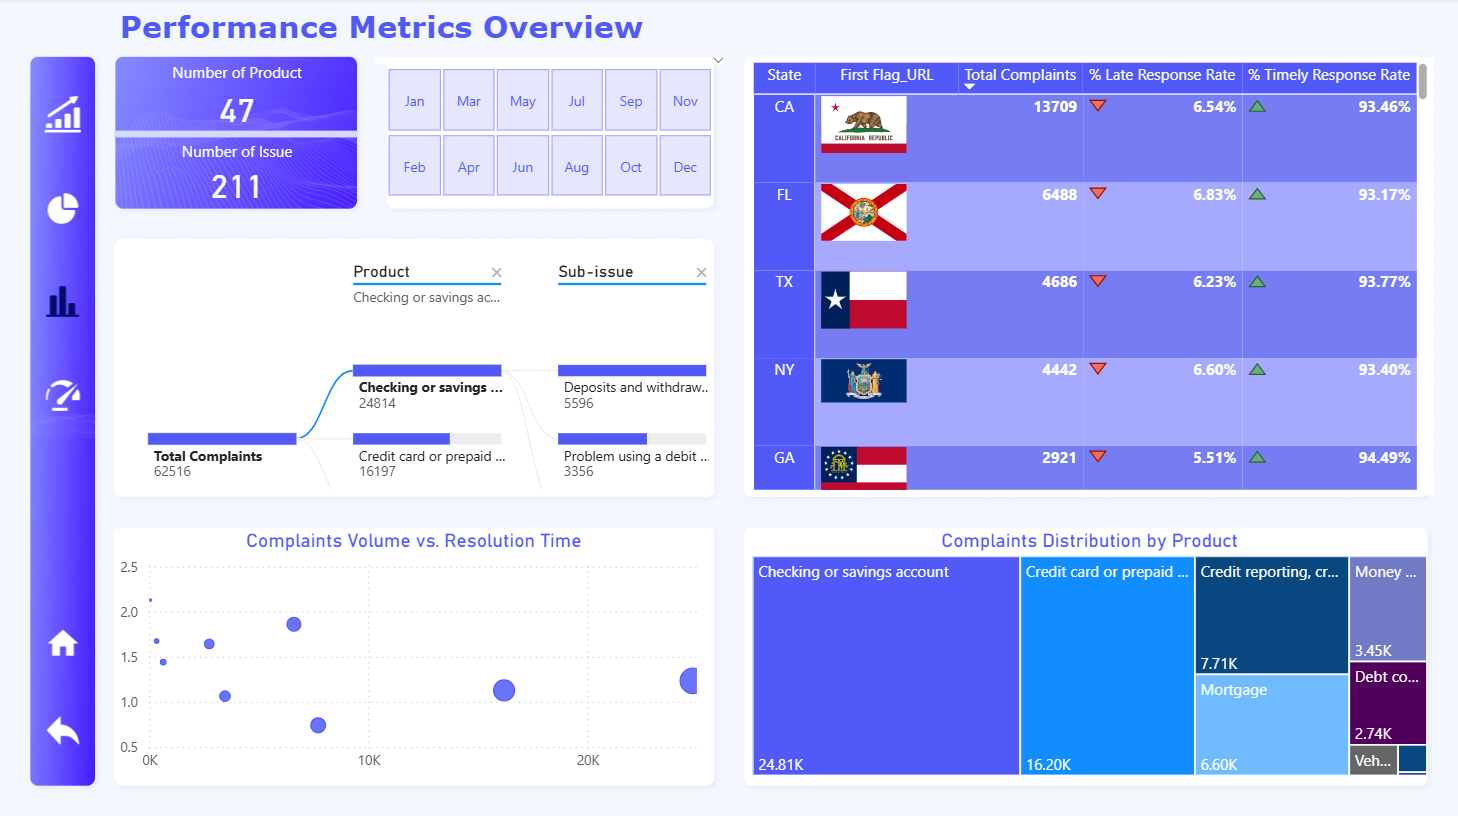

The dashboard page shown, as its layout file describes it:
{"tool":"powerbi","page":{"name":"Performance Metrics","canvas":[1280,720],"ordinal":3},"visuals":[{"type":"decompositionTreeVisual","title":"Total vs. PM Complaints","fields":{"Analyze":["Measures (2).Total Complaints"],"ExplainBy":["Dim Product.Product","Dim Issue.Sub-issue"]},"box":[99.8,215.5,526.8,221.4],"z":0},{"type":"scatterChart","title":"Complaints Volume vs. Resolution Time","fields":{"X":["Measures (2).Total Complaints"],"Y":["Avg(Fact Data.Processing Days)"],"Category":["Dim Product.Product"],"Size":["Measures (2).Complaints Variance"]},"box":[99.8,466.5,526.8,221.4],"z":1000},{"type":"treemap","title":"Complaints Distribution by Product","fields":{"Values":["CountNonNull(Fact Data.Complaint ID)"],"Group":["Dim Product.Product"]},"box":[656.3,466.5,601.9,221.4],"z":2000},{"type":"slicer","fields":{"Values":["DimDate.Month"]},"box":[315.3,47.4,333.1,133.4],"z":3000},{"type":"pivotTable","title":"Response Performance by State","fields":{"Rows":["Dim State.State"],"Values":["Min(Dim State.Flag_URL)","Measures (2).Total Complaints","Measures (2).% Late Response Rate","Measures (2).% Timely Response Rate"]},"box":[656.8,51.8,602.3,385.5],"z":4000},{"type":"textbox","box":[100.1,3.5,674.3,47.4],"z":5000},{"type":"actionButton","box":[35.2,64,40.4,76.4],"z":6000},{"type":"actionButton","box":[35.2,146.3,40.4,76.4],"z":7000},{"type":"actionButton","box":[35.2,228.5,40.4,76.4],"z":8000},{"type":"actionButton","box":[35.2,310.8,40.4,76.4],"z":9000},{"type":"actionButton","box":[35.1,528.6,40.4,76.4],"z":10000},{"type":"actionButton","box":[35.1,605,40.4,76.4],"z":11000},{"type":"card","fields":{"Values":["CountNonNull(Dim Product.Product_ID)"]},"box":[100.6,50.8,214.4,69.6],"z":12000},{"type":"card","fields":{"Values":["CountNonNull(Dim Issue.Issue_ID)"]},"box":[100.6,120.4,214.4,64.9],"z":13000},{"type":"shape","box":[100.3,91.2,214.3,56.2],"z":14000}]}

Visuals, with their boxes on the page's 1280x720 design canvas (x1, y1, x2, y2). These are canvas units, not pixel positions in the 1458x817 screenshot, which may show the page scaled, cropped or inside an application window:
"Total vs. PM Complaints" decompositionTreeVisual: BBox(100, 216, 627, 437)
"Complaints Volume vs. Resolution Time" scatterChart: BBox(100, 466, 627, 688)
"Complaints Distribution by Product" treemap: BBox(656, 466, 1258, 688)
slicer - DimDate.Month: BBox(315, 47, 648, 181)
"Response Performance by State" pivotTable: BBox(657, 52, 1259, 437)
textbox: BBox(100, 4, 774, 51)
actionButton: BBox(35, 64, 76, 140)
actionButton: BBox(35, 146, 76, 223)
actionButton: BBox(35, 228, 76, 305)
actionButton: BBox(35, 311, 76, 387)
actionButton: BBox(35, 529, 76, 605)
actionButton: BBox(35, 605, 76, 681)
card - CountNonNull(Dim Product.Product_ID): BBox(101, 51, 315, 120)
card - CountNonNull(Dim Issue.Issue_ID): BBox(101, 120, 315, 185)
shape: BBox(100, 91, 315, 147)
